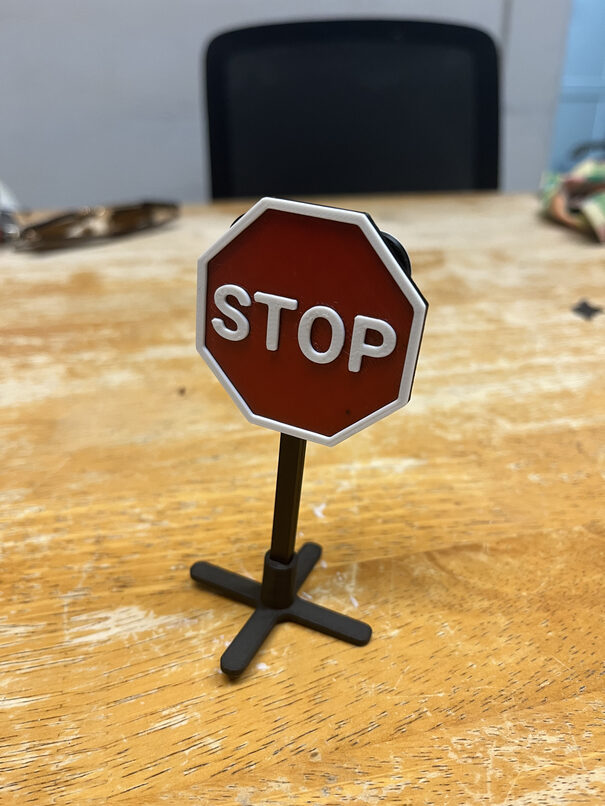sign_stop: (192, 195, 426, 442)
